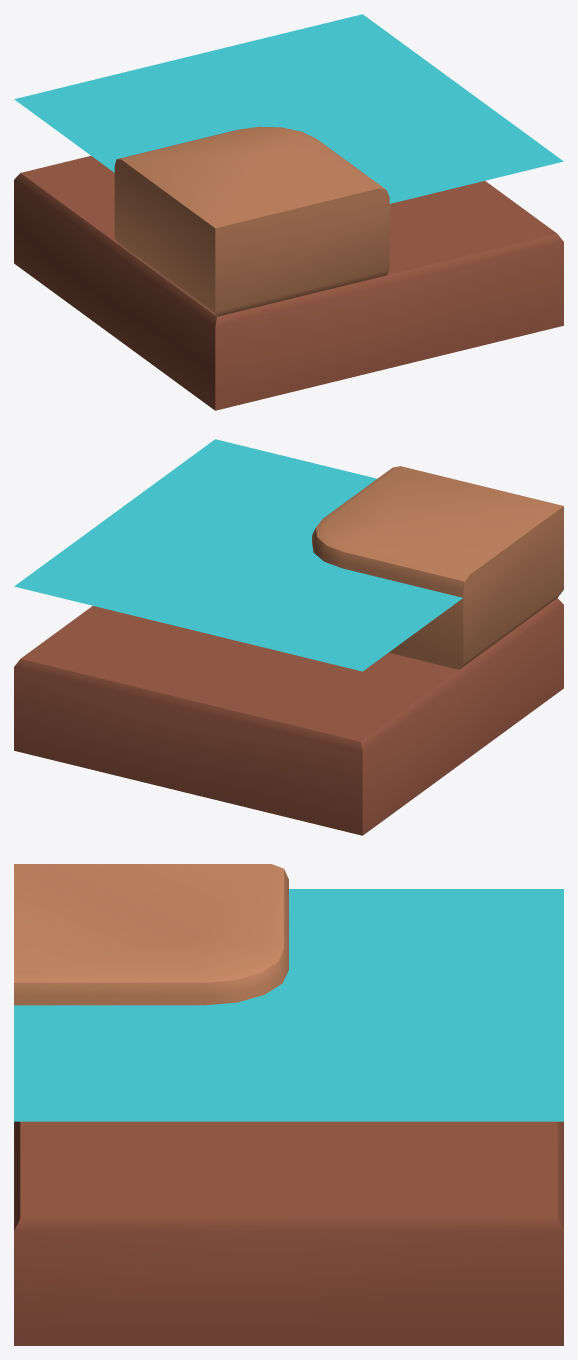
The model's file is square_rock_waterOuterCorner_noSides.glb.
3 renders of one model, top to bottom at view 1: azimuth 30°, elevation 25°; view 2: azimuth 150°, elevation 25°; view 3: azimuth 270°, elevation 25°, orthographic. The views are drawn at different scales.
Visible parts, largest first — view 1: square_rock_waterOuterCorner_noSides; view 2: square_rock_waterOuterCorner_noSides; view 3: square_rock_waterOuterCorner_noSides.
Boxes of the visible parts, x1,y1,x2,y2 form: square_rock_waterOuterCorner_noSides: [14, 14, 563, 410]; square_rock_waterOuterCorner_noSides: [14, 439, 563, 835]; square_rock_waterOuterCorner_noSides: [14, 864, 563, 1345].
Size of the model in its own units: 3.82 by 1.91 by 3.82.
